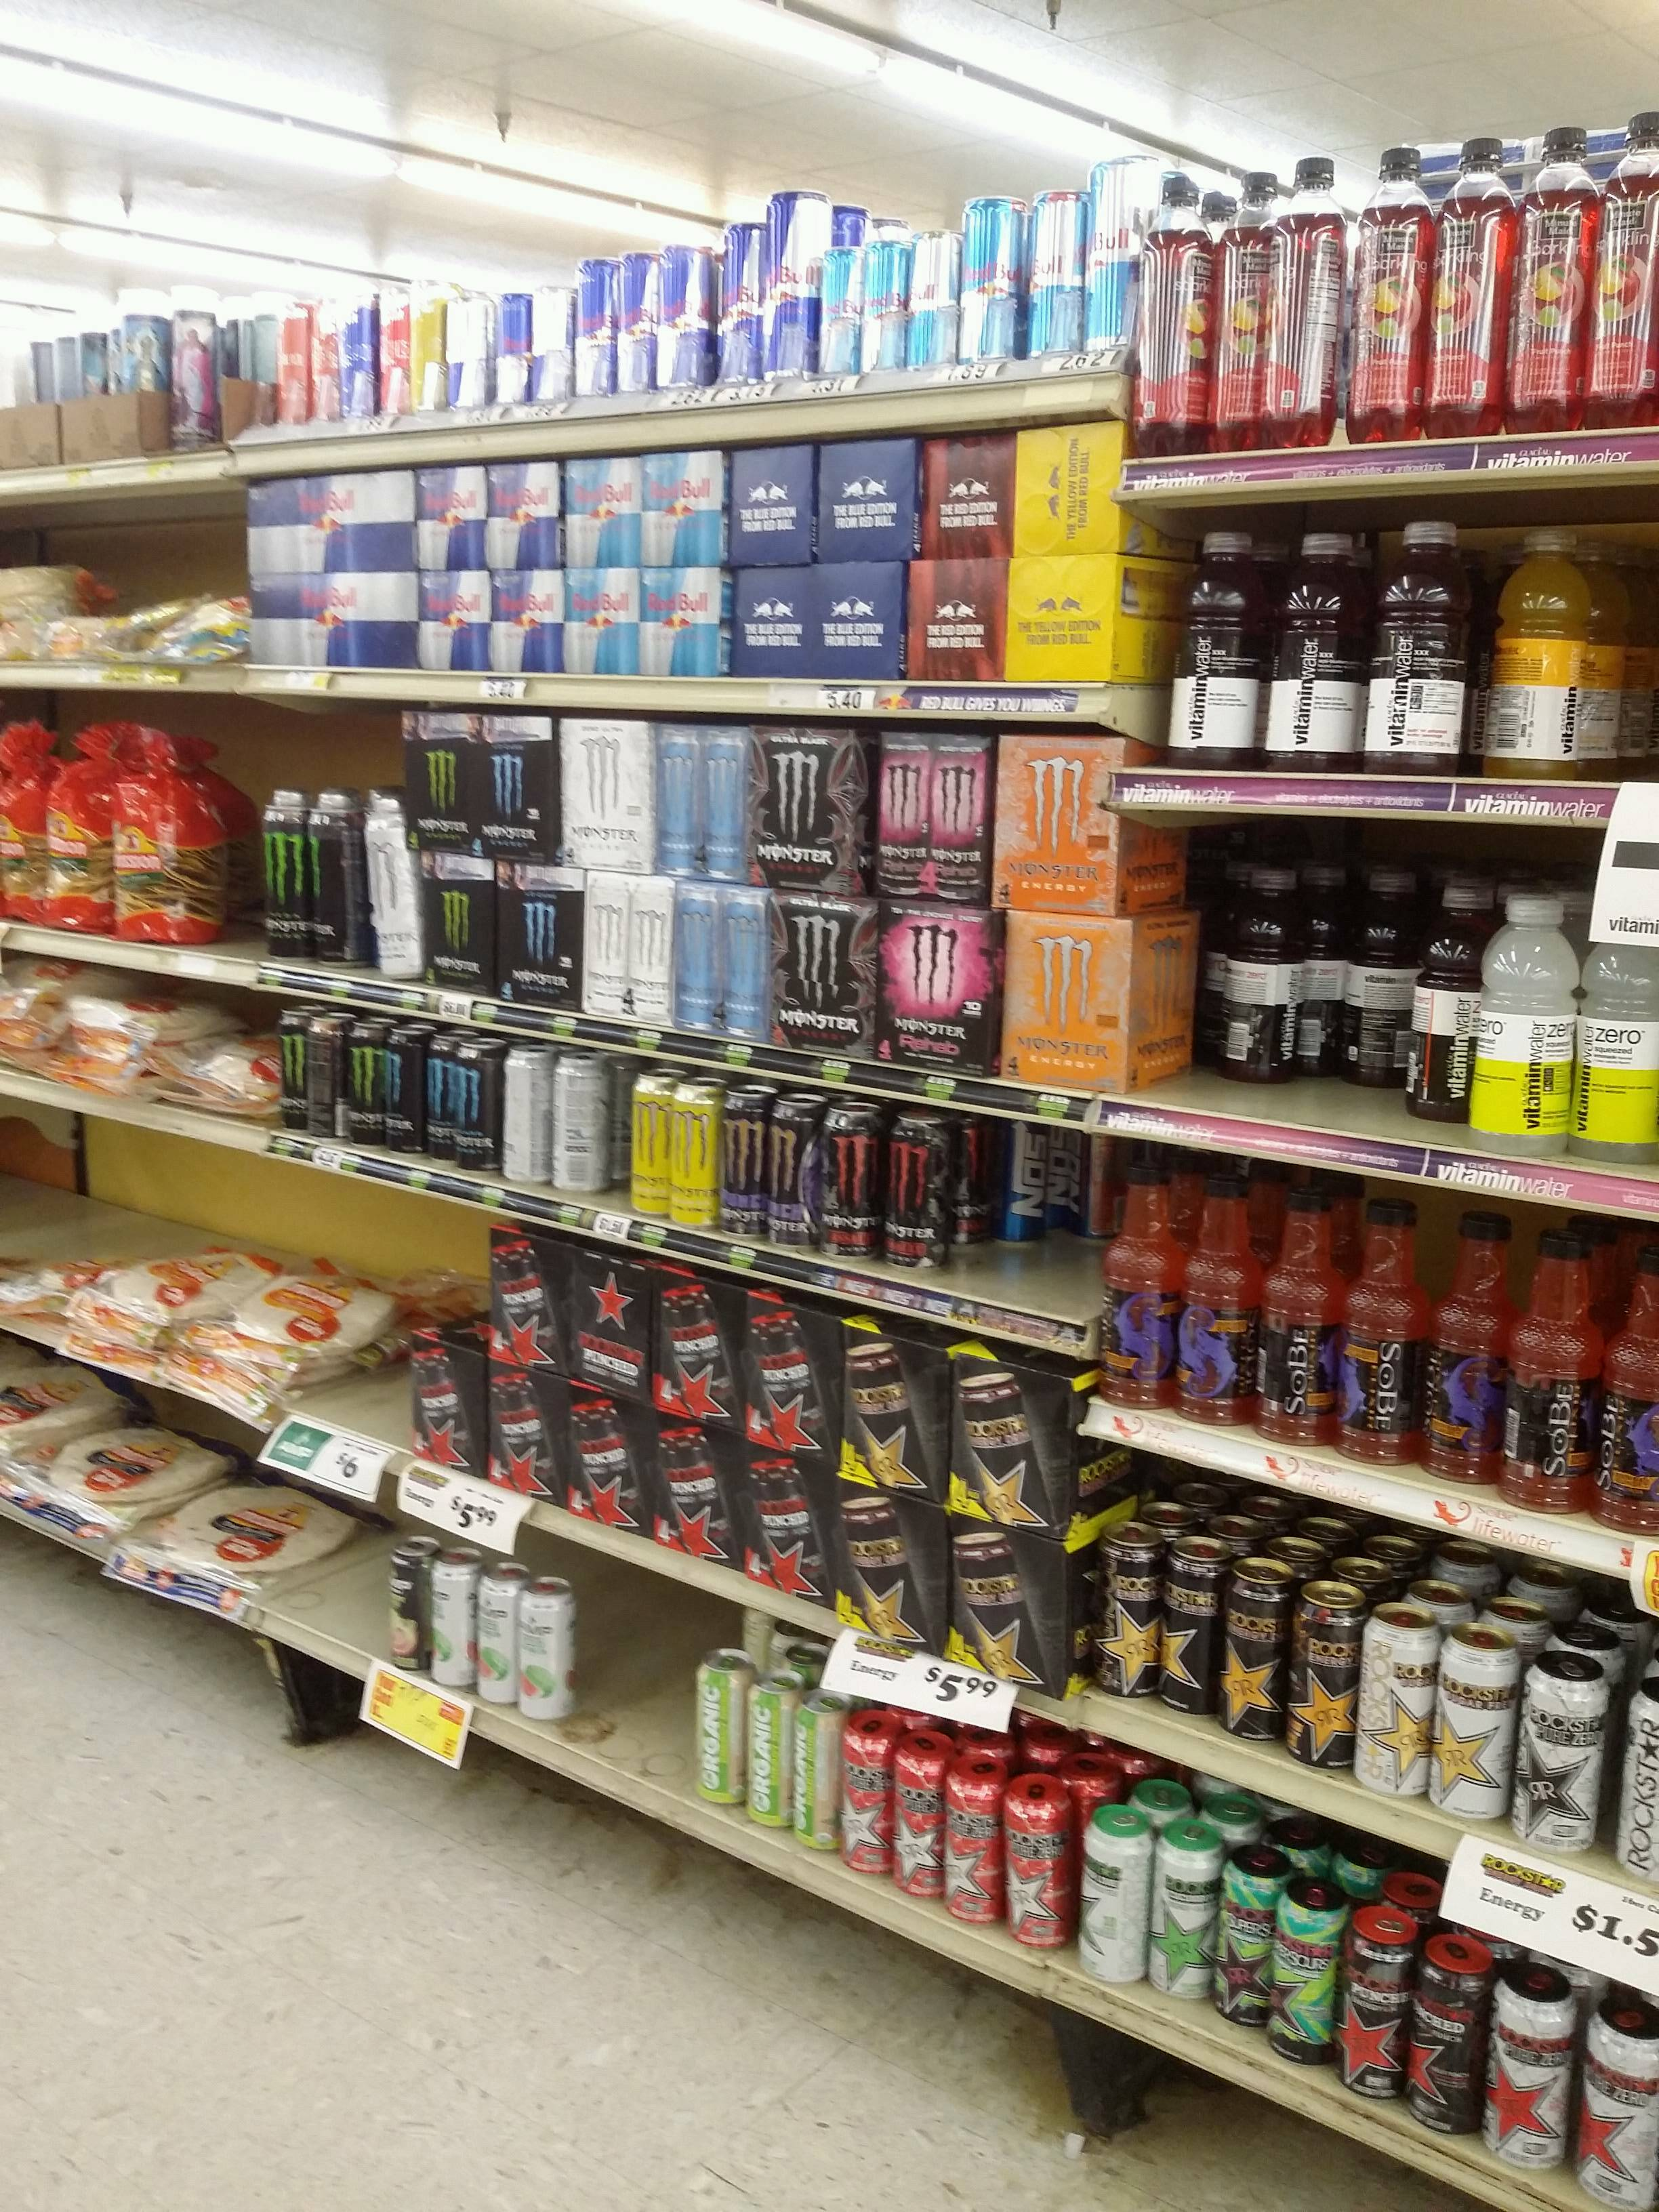Misplacement: (1147, 815, 1405, 1136), (945, 1113, 1101, 1329)
Out-of-stock: (580, 1550, 688, 1785), (260, 1500, 396, 1663), (293, 1313, 408, 1461), (188, 775, 261, 963)
